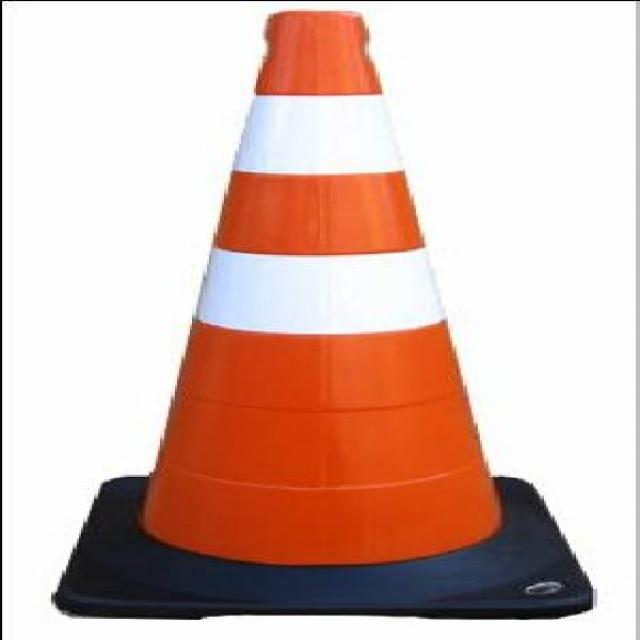cone: (53, 9, 602, 618)
